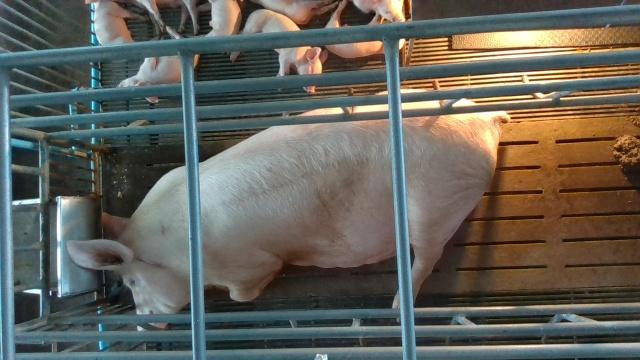piglet: (231, 9, 328, 93), (116, 26, 198, 103), (326, 1, 407, 58), (93, 0, 149, 45), (206, 0, 243, 38)
sow-sleep: (64, 80, 514, 330)
